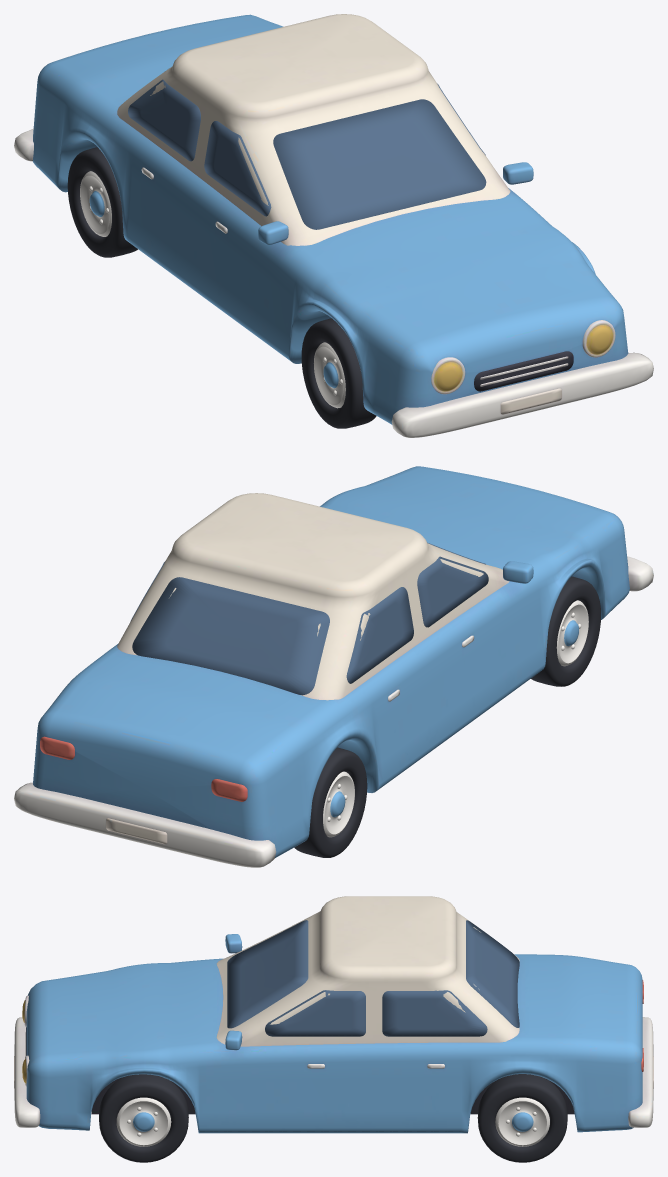
Rendered from sedan.glb.
3 renders of one model, top to bottom at view 1: azimuth 30°, elevation 25°; view 2: azimuth 150°, elevation 25°; view 3: azimuth 270°, elevation 25°, orthographic. The views are drawn at different scales.
Visible parts, largest first — view 1: sedan_body, sedan_windows, sedan_wheel_fr, sedan_wheel_rr; view 2: sedan_body, sedan_windows, sedan_wheel_rr, sedan_wheel_fr; view 3: sedan_body, sedan_windows, sedan_wheel_rl, sedan_wheel_fl.
Boxes of the visible parts, <box> form: sedan_body: <box>14,14,653,437</box>; sedan_windows: <box>128,79,486,229</box>; sedan_wheel_fr: <box>301,318,376,428</box>; sedan_wheel_rr: <box>67,147,137,257</box>; sedan_body: <box>14,466,653,867</box>; sedan_windows: <box>130,542,488,695</box>; sedan_wheel_rr: <box>294,747,367,857</box>; sedan_wheel_fr: <box>531,576,600,686</box>; sedan_body: <box>14,896,653,1133</box>; sedan_windows: <box>227,920,519,1036</box>; sedan_wheel_rl: <box>477,1074,567,1162</box>; sedan_wheel_fl: <box>99,1074,188,1162</box>.
Size of the model in its own units: 1.86 by 1.49 by 4.7.
Materials: 14 (1 with a texture image).
